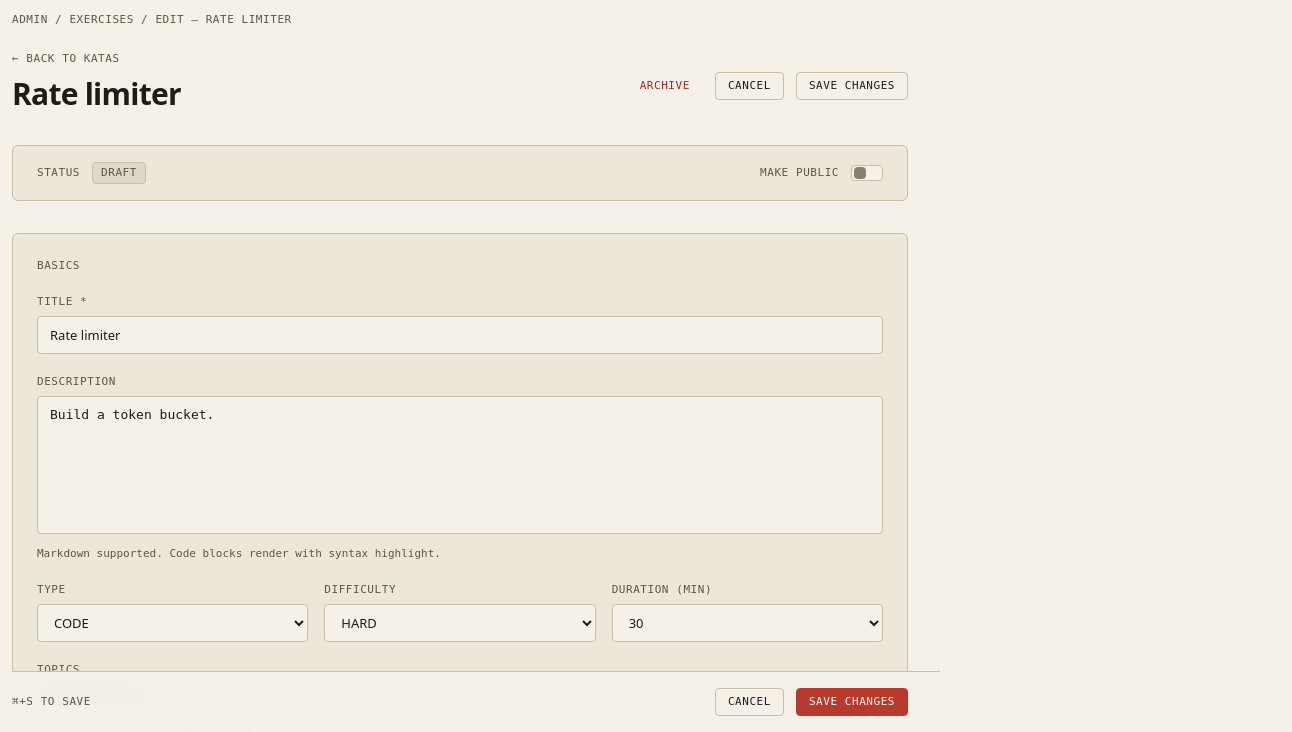
Test: AdminEditKataPage › shows the API error and stays on the form when updateKata rejects
Expected: the field with placeholder "e.g. Refactor a 200-line useEffect" is shown, left=37, top=316, right=883, bottom=354
Click the 1st button "Save changes" at point(852, 86), box left=796, top=72, right=908, bottom=100
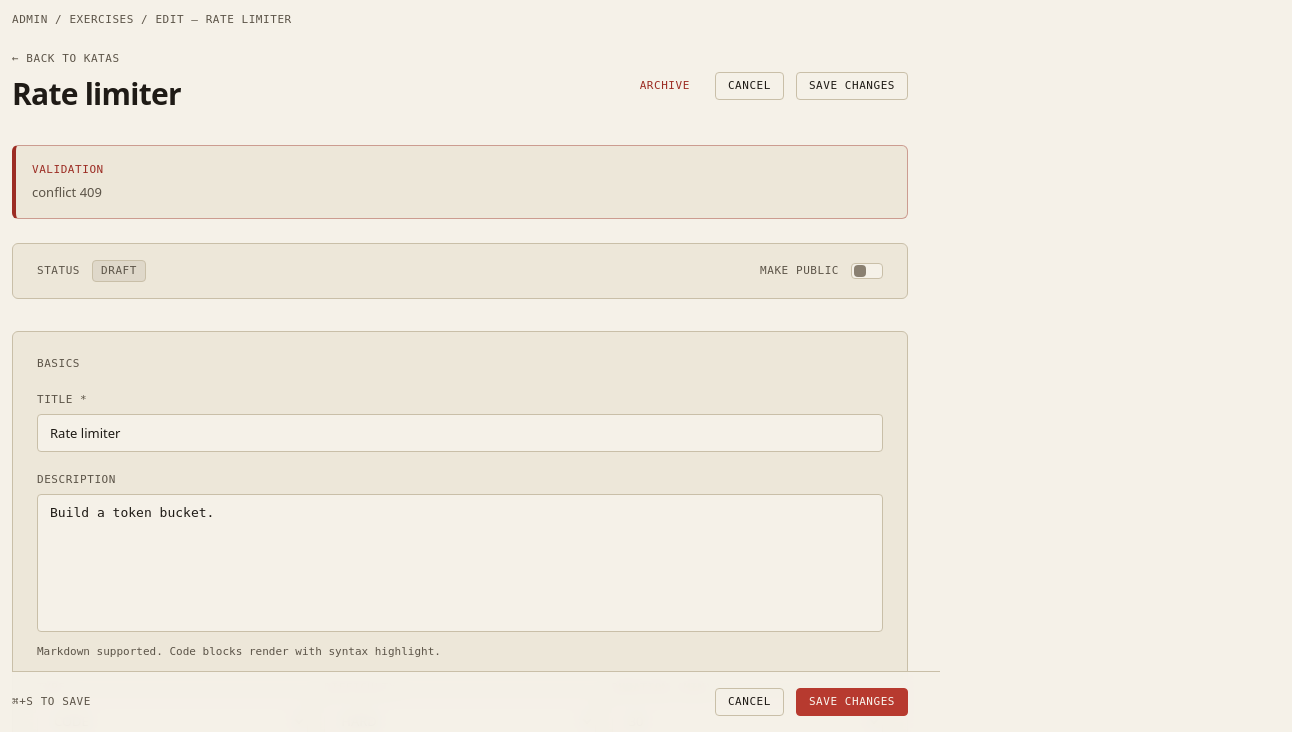
Now the text "conflict 409" is shown, box left=32, top=182, right=102, bottom=200
